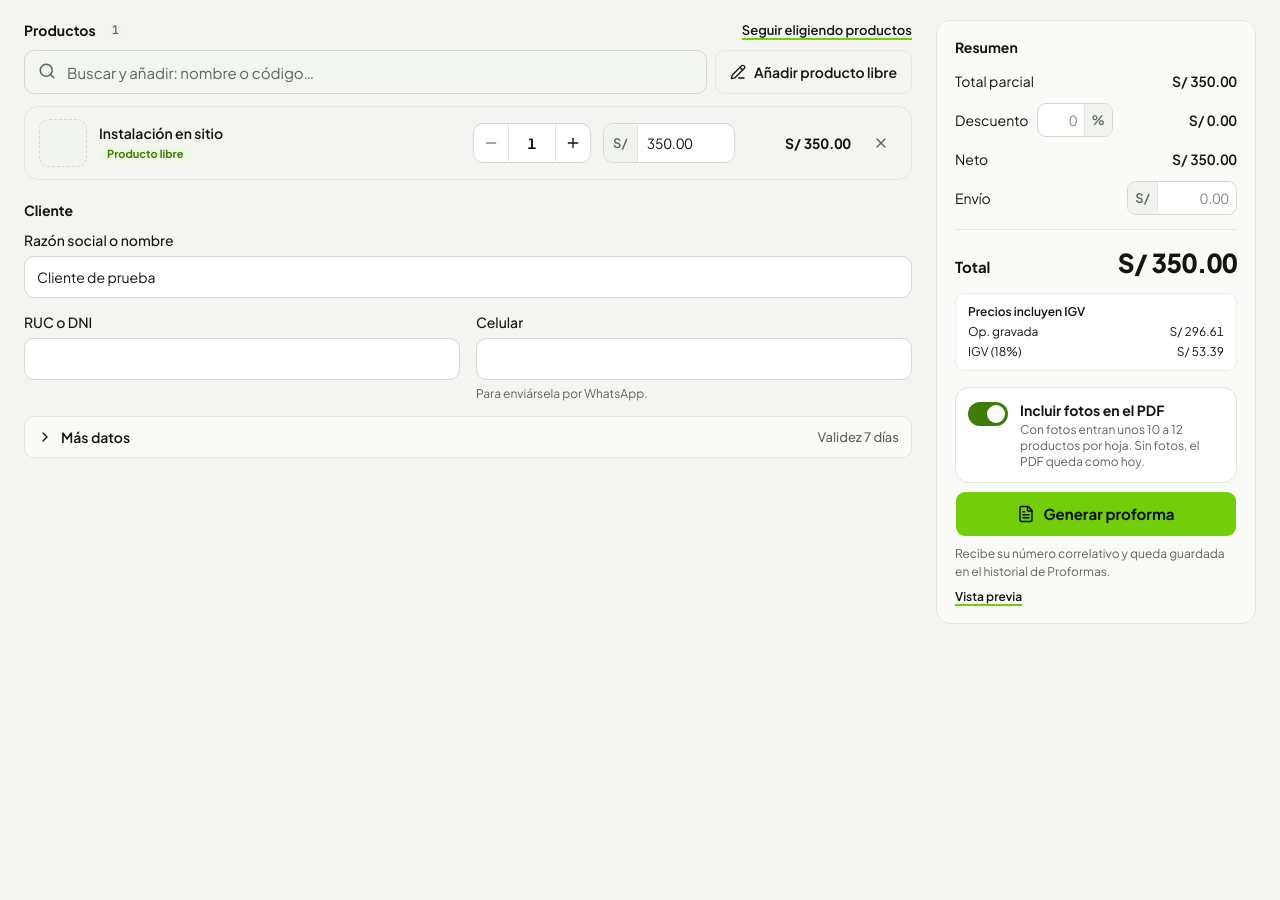
Test: ProformaEditor › fotos › borrar las fotos que no se usan › con «Deshacer», la línea libre vuelve con su foto y no se borra
Click the button named "Quitar Instalación en sitio" at coordinates (881, 143), box [863,125,899,161]
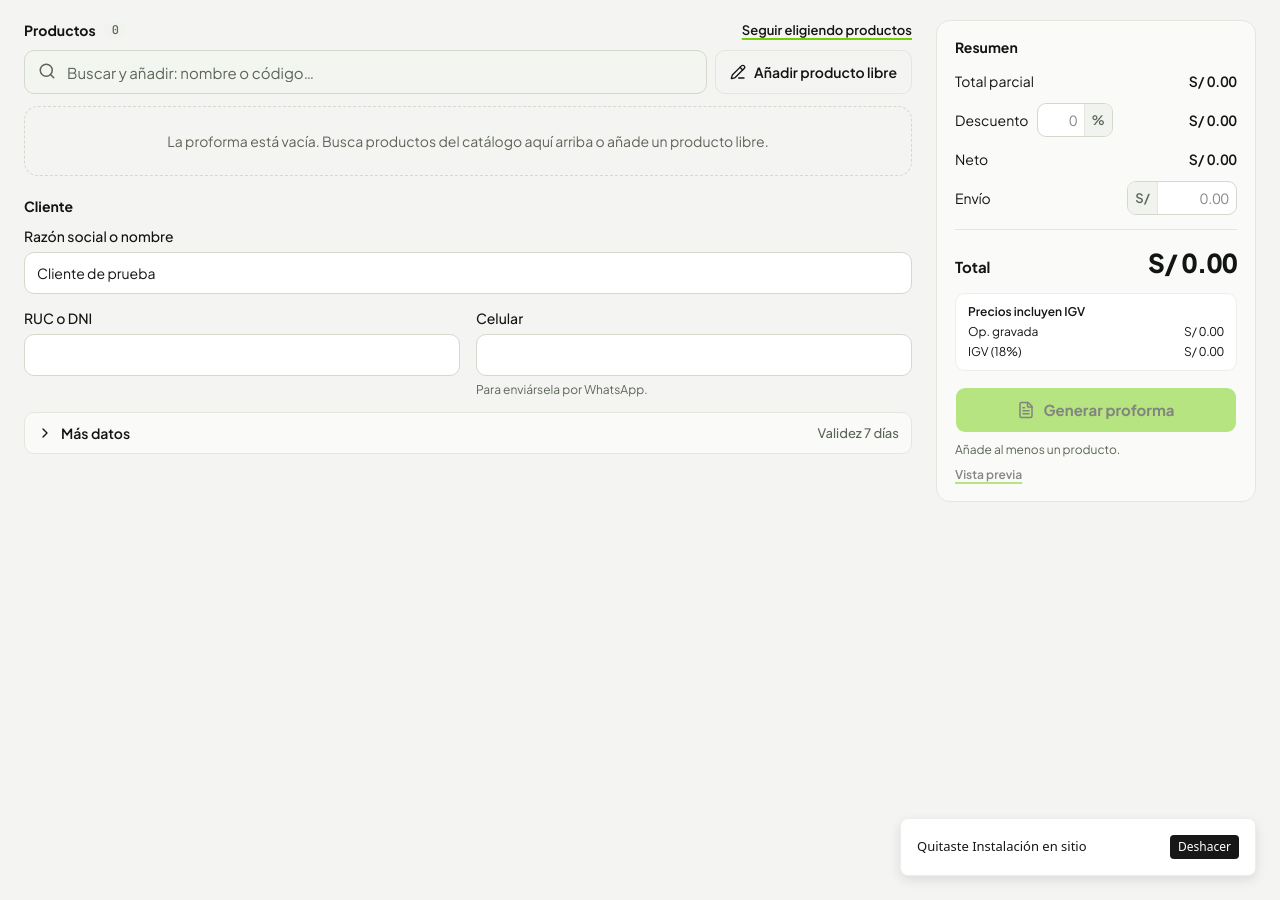
Click the button "Deshacer" at coordinates (1205, 847), box [1170,835,1239,859]
Wait 6000 ms
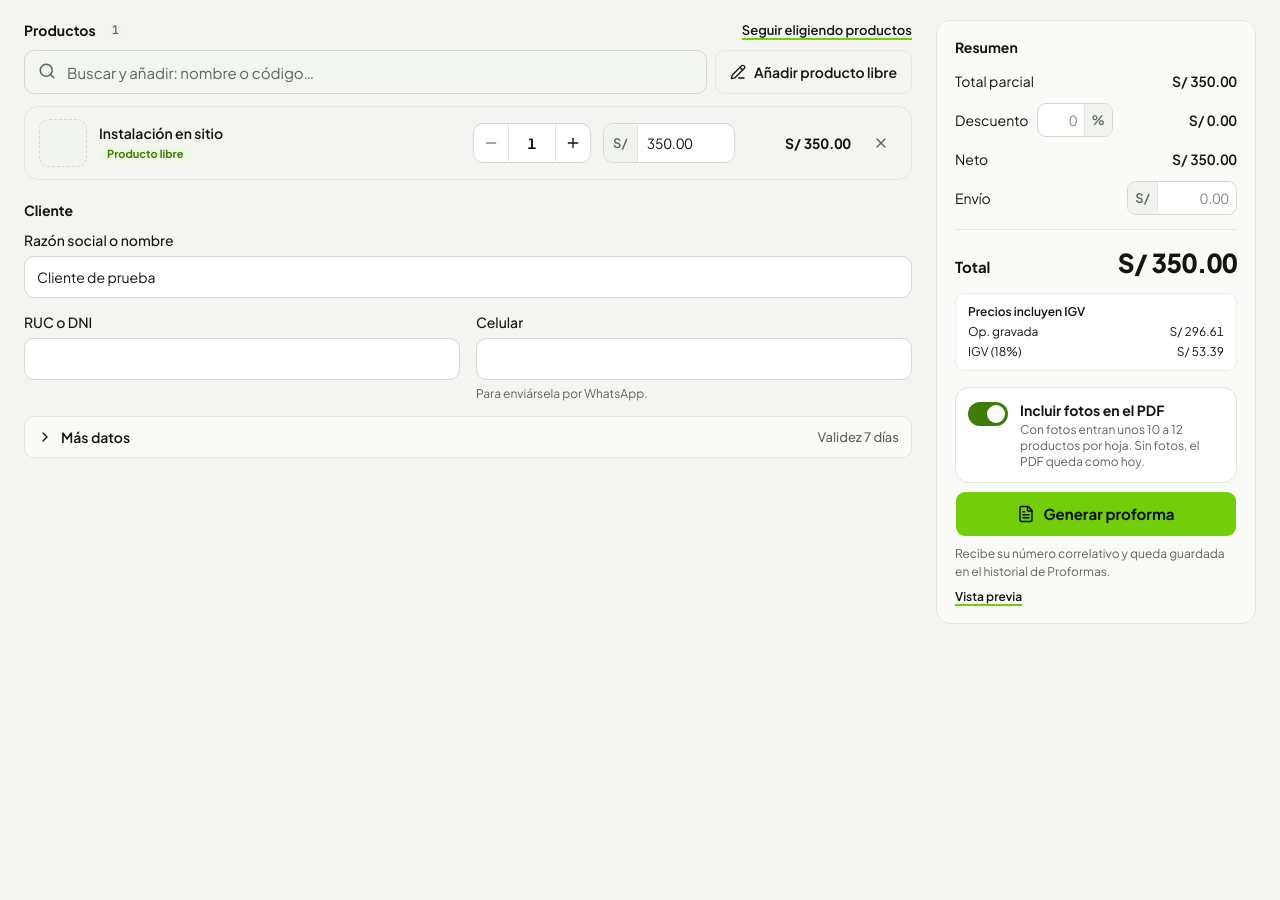
Now the field named "Cantidad de Instalación en sitio" is shown, box [508,124,556,162]
